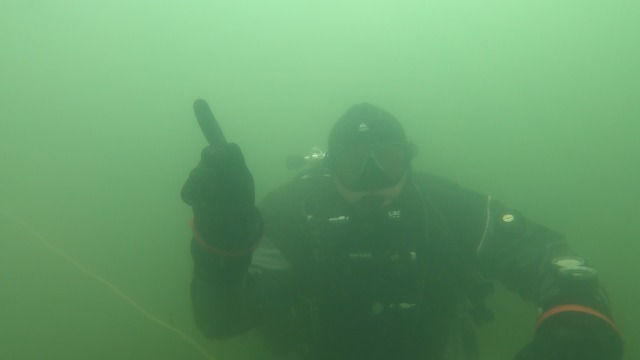Hand: (160, 84, 279, 294)
Head: (287, 96, 423, 231)
